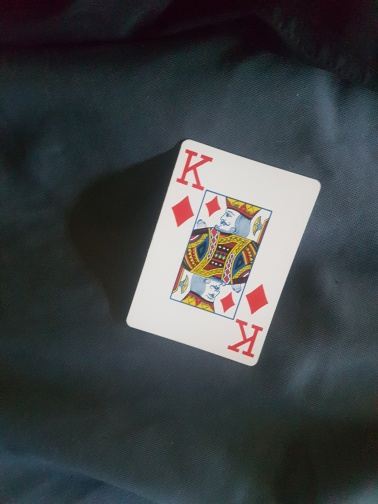king: (124, 139, 321, 368)
